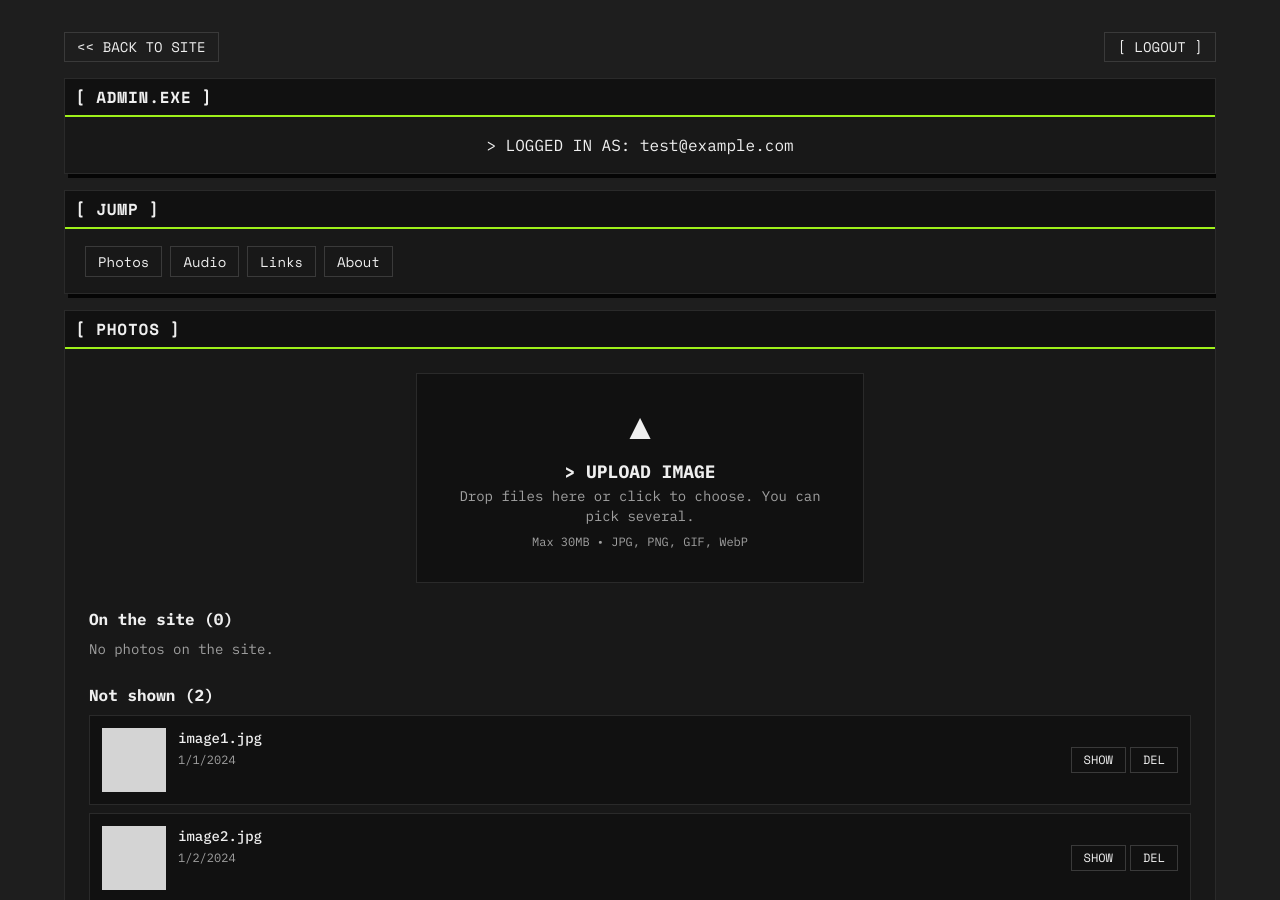
Test case: AdminPage › handles fetch error in handleSave
Check: the text "image1.jpg" is shown, box [178, 728, 262, 748]
Click the button with aria-label "Show image1.jpg". click: point(1098, 760)
box: [1071, 747, 1126, 773]
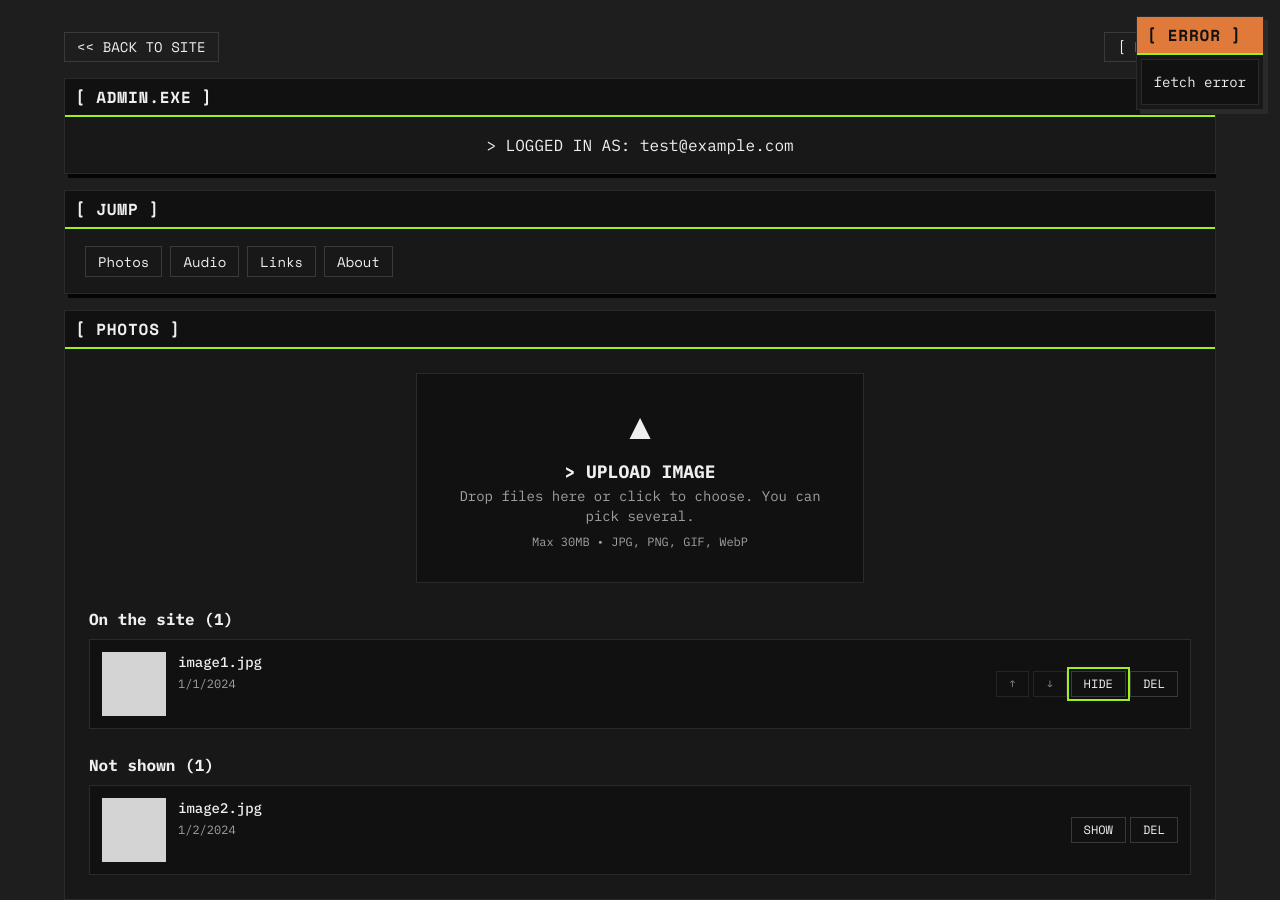
Check: the message shows "fetch error", box [1154, 73, 1246, 91]
